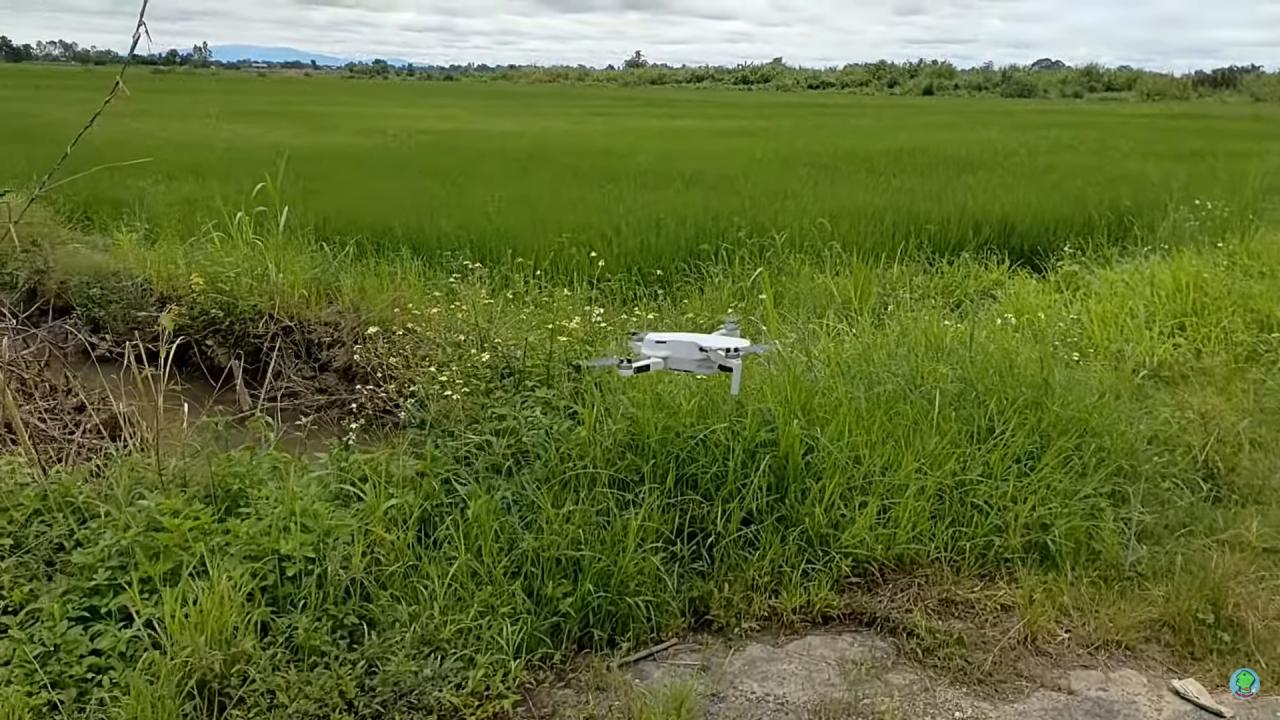Drone: (568, 298, 796, 409)
